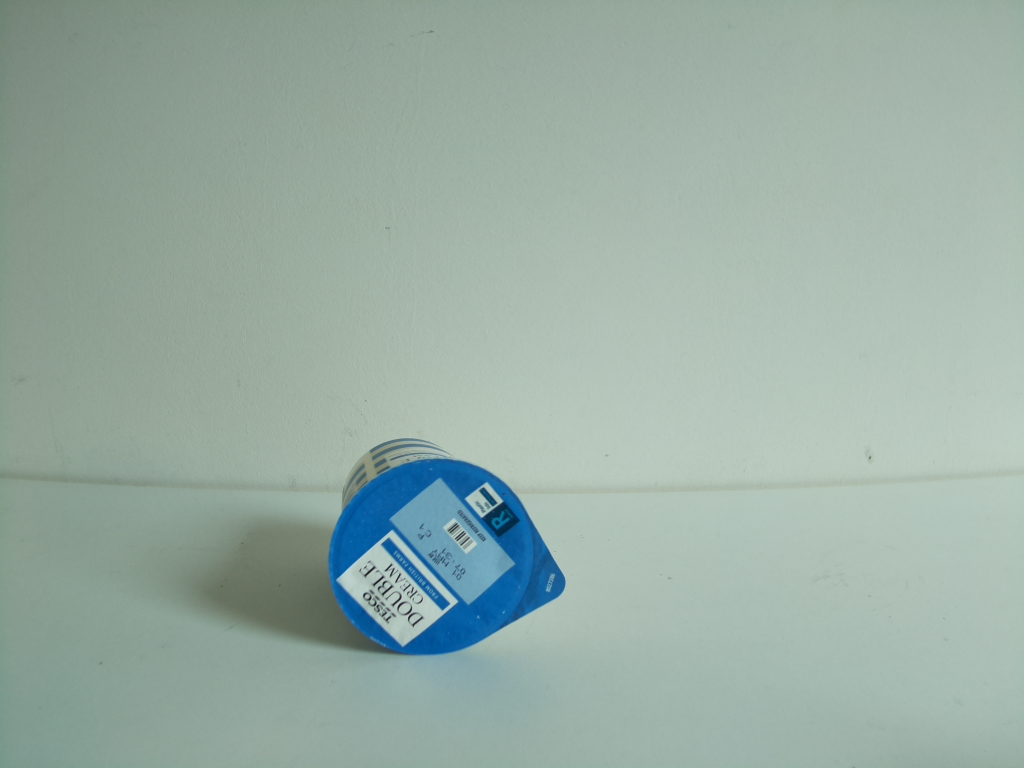cream: (326, 433, 570, 659)
